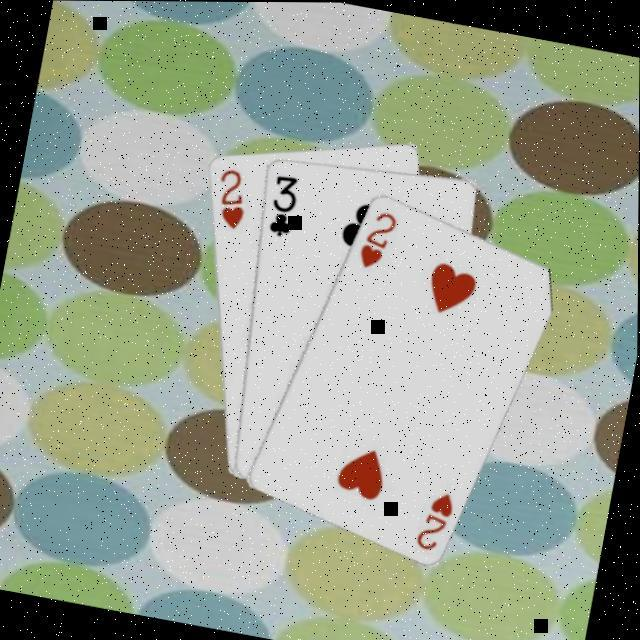2H: (410, 481, 458, 552), (352, 201, 399, 271), (206, 160, 252, 230)
3C: (260, 166, 302, 237)
